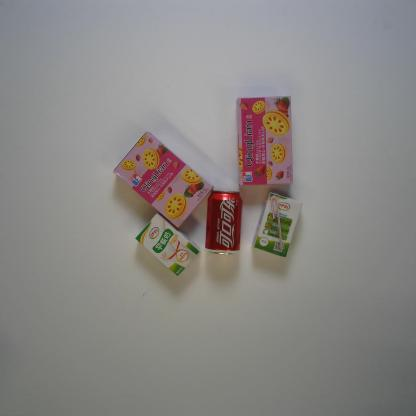Dessert: (112, 132, 213, 230), (235, 95, 294, 186)
Drink: (204, 190, 244, 256)
Milk: (135, 212, 200, 277), (252, 191, 303, 259)
